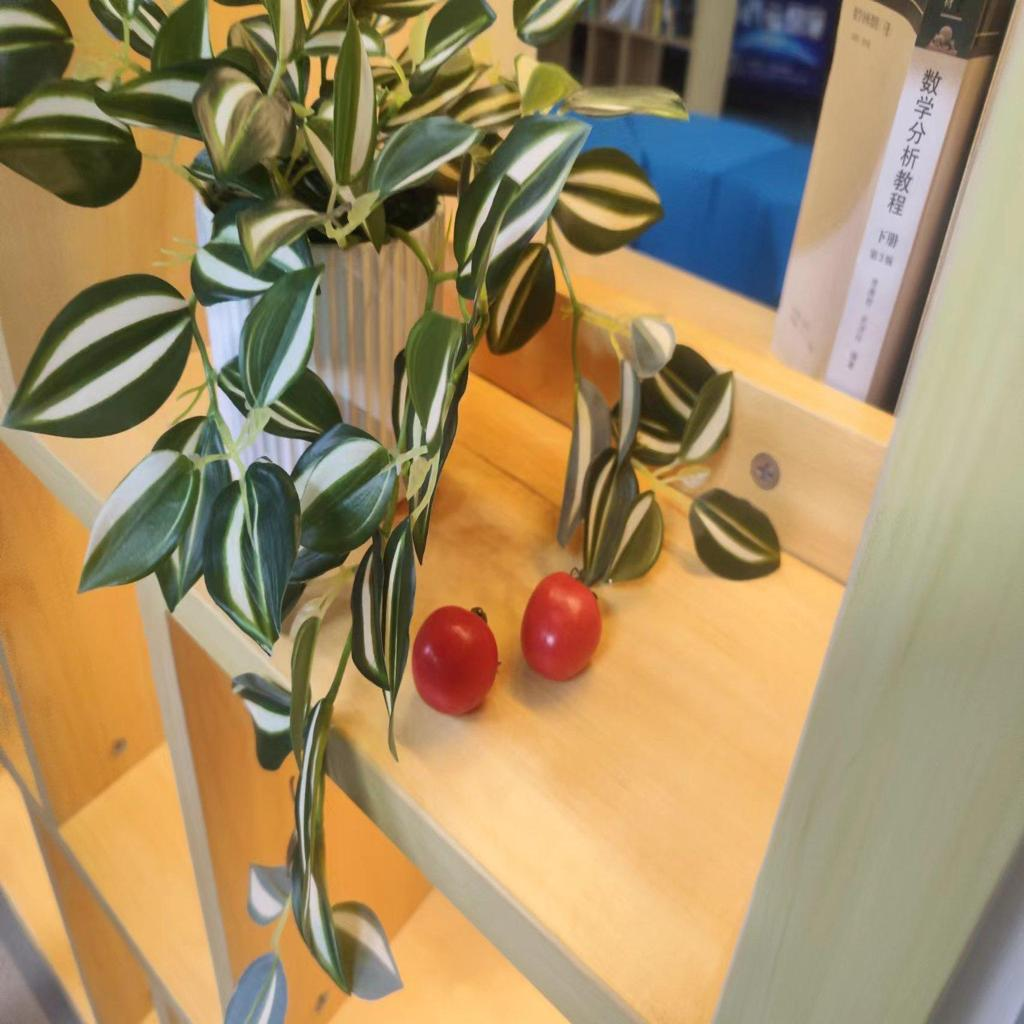tomato: (412, 603, 503, 717), (522, 570, 603, 680)
